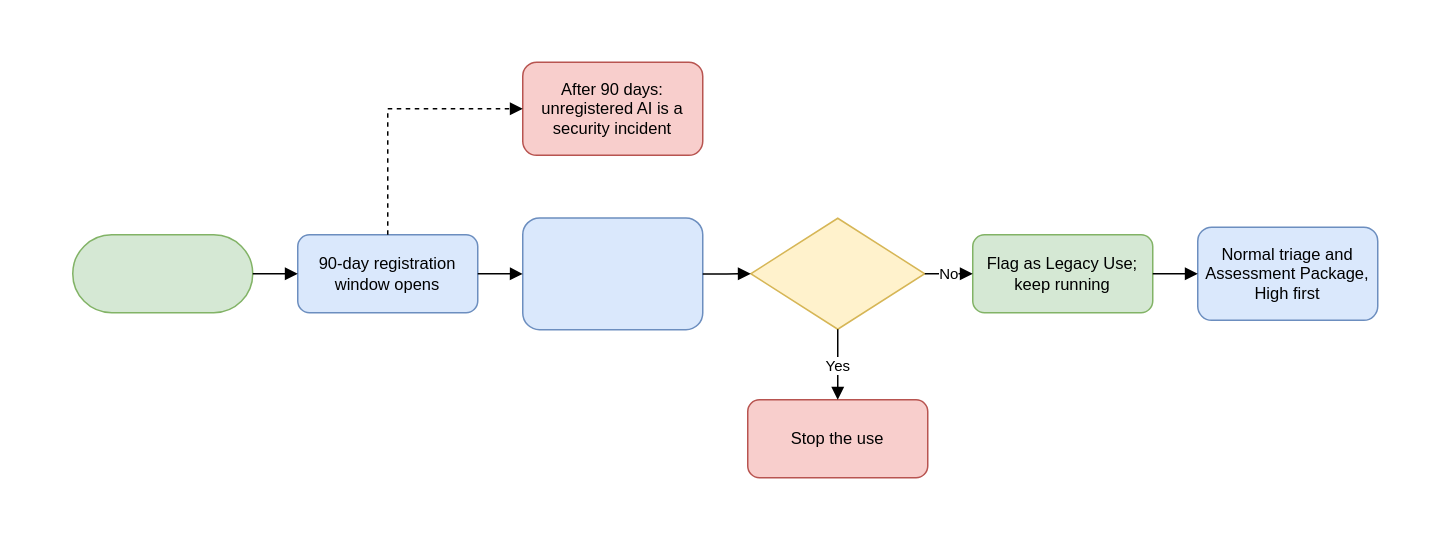
The diagram is 1449 pixels wide and 546 high, and some of its shapes have lost their labels. Here are the shapes that lost their labels. From the top down, the centre of each, then its label:
At point 162,273: "Policy adopted".
At point 612,273: "Units and IT register all AI in use, incl. vendor-added SaaS features".
At point 837,273: "Prohibited use?".
